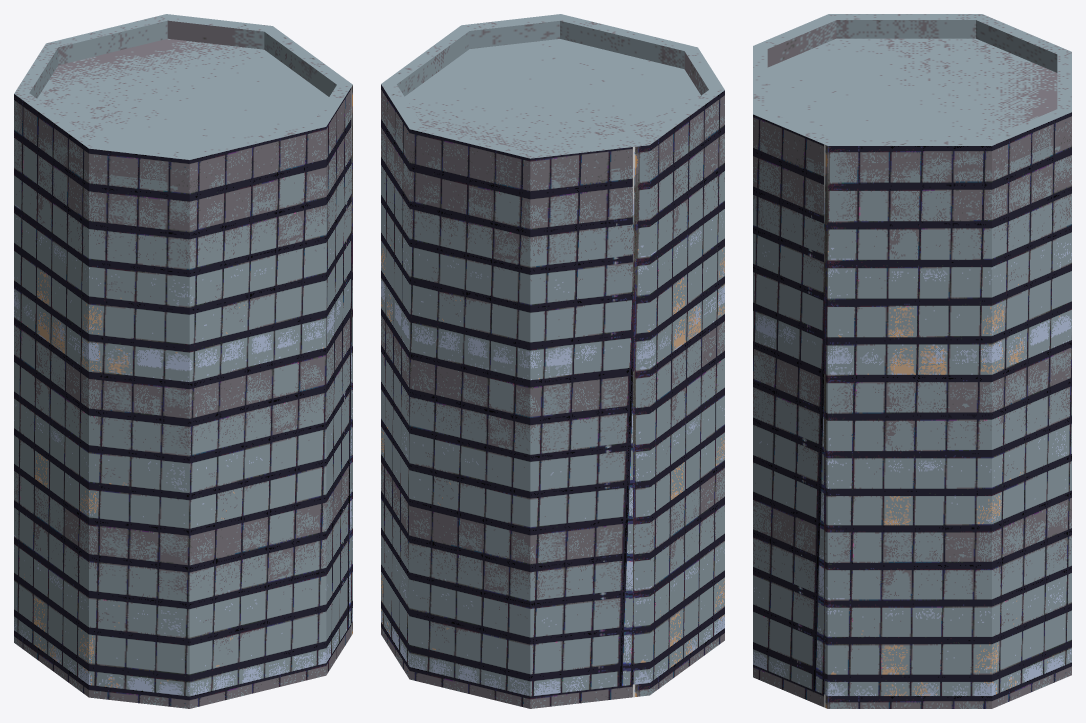
The model's file is Building 00.fbx.
3 renders of one model, left to right at view 1: azimuth 30°, elevation 25°; view 2: azimuth 150°, elevation 25°; view 3: azimuth 270°, elevation 25°, orthographic. The views are drawn at different scales.
Parts seen in each view (by area): view 1: pCube10; view 2: pCube10; view 3: pCube10.
Boxes of the visible parts, box(x1,y1,x2,y2) form: pCube10: box(14, 14, 352, 708); pCube10: box(381, 14, 724, 708); pCube10: box(753, 14, 1071, 708).
Size of the model in its own units: 25.37 by 50.51 by 25.91.
Materials: 2 (2 with a texture image).
